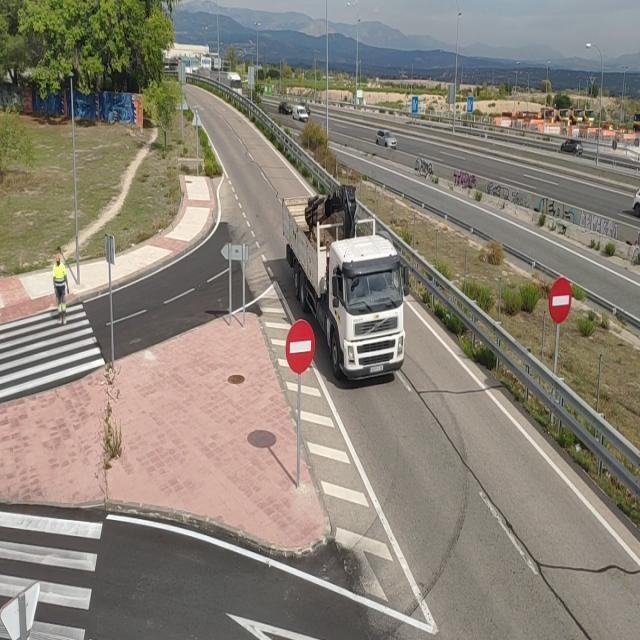Car: (374, 128, 399, 150), (292, 105, 310, 123)
Truck: (282, 180, 408, 384)
